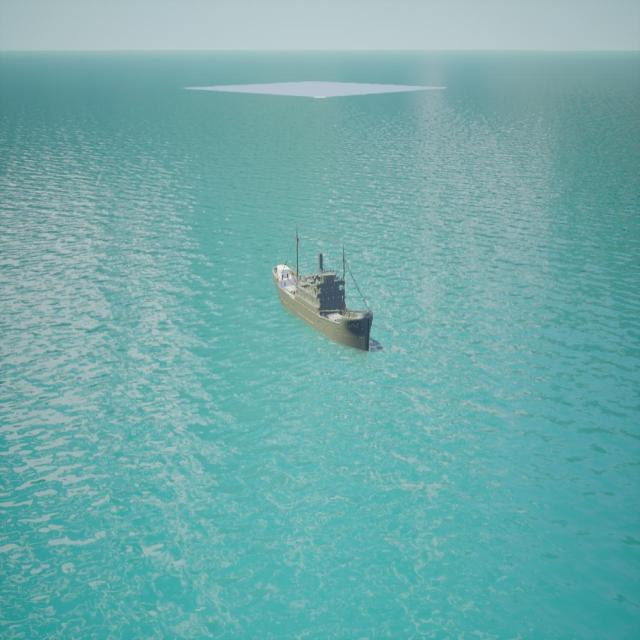fishing ship: (272, 264, 377, 354)
